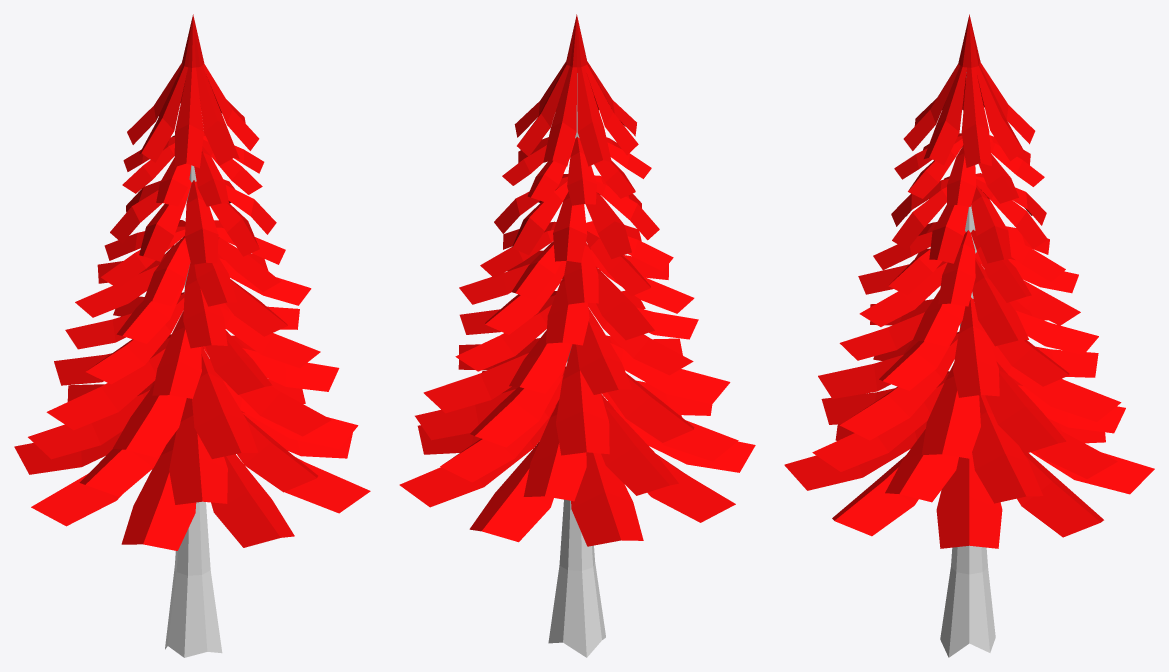
File: TreeFir.FBX
3 renders of one model, left to right at view 1: azimuth 30°, elevation 25°; view 2: azimuth 150°, elevation 25°; view 3: azimuth 270°, elevation 25°, orthographic.
Visible parts, largest first — view 1: Fir-tree; view 2: Fir-tree; view 3: Fir-tree.
Part boxes in pixels (bbox=[...]): Fir-tree: bbox=[14, 14, 370, 657]; Fir-tree: bbox=[399, 14, 755, 657]; Fir-tree: bbox=[784, 14, 1154, 657].
Size of what is drawn, in the model's own units: 377 by 714 by 377.
